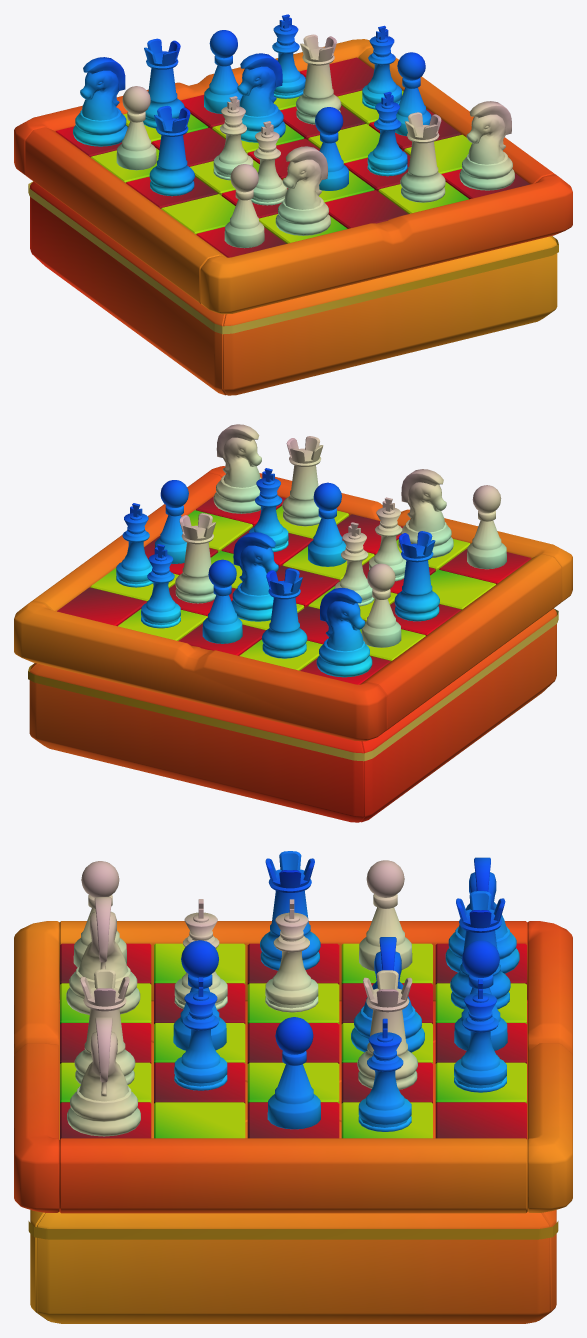
Rendered from Level_171.fbx.
3 views of the same model, one above another, from view 1: azimuth 30°, elevation 25°; view 2: azimuth 150°, elevation 25°; view 3: azimuth 270°, elevation 25° (orthographic). The views are drawn at different scales.
Parts seen in each view (by area): view 1: Cube_L1 1.006, Cube_L2 2.004, Cube_L1.006, Cube_L2.004, Cube_L3 2.002, Cube_L3 13.001, Cube_L3 15.001, Cube_L2 1.004, Cube_L3 17.001, Cube_L2 3.004, Cube_L3 7.001, Cube_L3 14.001 (+34 smaller); view 2: Cube_L1 2.006, Cube_L2 1.004, Cube_L1.006, Cube_L2.004, Cube_L2 3.004, Cube_L3 15.001, Cube_L3 13.001, Cube_L2 2.004, Cube_L3 17.001, Cube_L3 2.002, Cube_L3 16.001, Cube_L3 14.001 (+32 smaller); view 3: Cube_L1 3.006, Cube_L2 3.004, Cube_L2 1.004, Cube_L2 2.004, Cube_L2.004, Cube_L3 13.001, Cube_L3 11.001, Cube_L3 2.002, Cube_L3 12.001, Cube_L3 8.001, Cube_L3 4.002, Cube_L3 10.001 (+39 smaller).
Part boxes in pixels (x1=…): Cube_L1 1.006: x1=222, y1=237, x2=558, y2=395; Cube_L2 2.004: x1=200, y1=174, x2=572, y2=314; Cube_L1.006: x1=28, y1=182, x2=226, y2=395; Cube_L2.004: x1=25, y1=127, x2=226, y2=303; Cube_L3 2.002: x1=275, y1=146, x2=330, y2=235; Cube_L3 13.001: x1=459, y1=101, x2=514, y2=190; Cube_L3 15.001: x1=73, y1=57, x2=127, y2=146; Cube_L2 1.004: x1=14, y1=39, x2=372, y2=175; Cube_L3 17.001: x1=237, y1=53, x2=285, y2=142; Cube_L2 3.004: x1=358, y1=47, x2=554, y2=184; Cube_L3 7.001: x1=400, y1=112, x2=445, y2=202; Cube_L3 14.001: x1=149, y1=105, x2=194, y2=196; Cube_L1 2.006: x1=28, y1=664, x2=364, y2=822; Cube_L2 1.004: x1=14, y1=601, x2=386, y2=741; Cube_L1.006: x1=360, y1=609, x2=558, y2=822; Cube_L2.004: x1=360, y1=554, x2=561, y2=730; Cube_L2 3.004: x1=32, y1=473, x2=221, y2=611; Cube_L3 15.001: x1=316, y1=588, x2=372, y2=677; Cube_L3 13.001: x1=213, y1=424, x2=261, y2=513; Cube_L2 2.004: x1=207, y1=466, x2=572, y2=602; Cube_L3 17.001: x1=231, y1=532, x2=278, y2=621; Cube_L3 2.002: x1=398, y1=469, x2=453, y2=558; Cube_L3 16.001: x1=262, y1=568, x2=307, y2=658; Cube_L3 14.001: x1=394, y1=531, x2=439, y2=621; Cube_L1 3.006: x1=34, y1=1121, x2=552, y2=1323; Cube_L2 3.004: x1=59, y1=1138, x2=527, y2=1213; Cube_L2 1.004: x1=527, y1=921, x2=572, y2=1212; Cube_L2 2.004: x1=14, y1=921, x2=59, y2=1212; Cube_L2.004: x1=59, y1=921, x2=527, y2=1001; Cube_L3 13.001: x1=67, y1=1017, x2=140, y2=1136; Cube_L3 11.001: x1=267, y1=1017, x2=320, y2=1129; Cube_L3 2.002: x1=66, y1=897, x2=140, y2=1014; Cube_L3 12.001: x1=358, y1=1018, x2=411, y2=1131; Cube_L3 8.001: x1=174, y1=977, x2=227, y2=1090; Cube_L3 4.002: x1=265, y1=899, x2=318, y2=1012; Cube_L3 10.001: x1=454, y1=979, x2=506, y2=1092.
Size of the model in its own units: 15.67 by 8.95 by 15.67.
